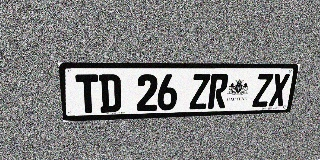2: (137, 74, 158, 111)
6: (157, 74, 178, 111)
D: (99, 74, 121, 113)
R: (208, 74, 229, 109)
T: (75, 74, 99, 113)
X: (268, 73, 290, 106)
Z: (189, 74, 211, 109), (252, 74, 274, 107)
